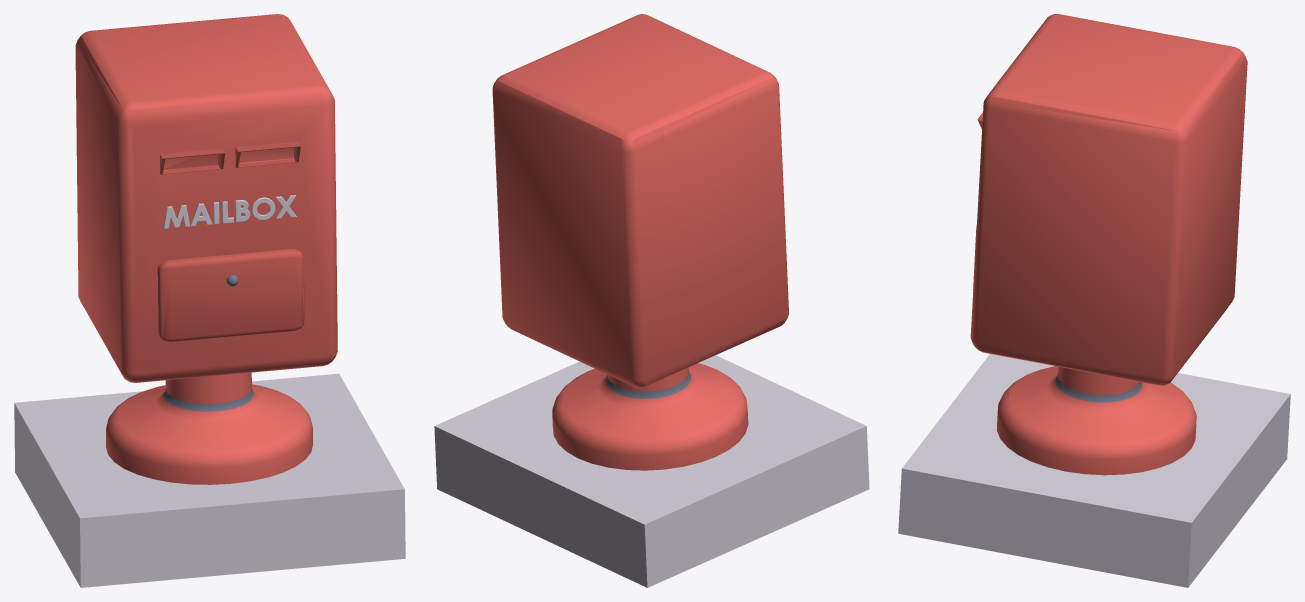
Rendered from concrete_mailbox.fbx.
3 views of the same model, side by side, from view 1: azimuth 30°, elevation 25°; view 2: azimuth 150°, elevation 25°; view 3: azimuth 270°, elevation 25° (orthographic). The views are drawn at different scales.
Parts seen in each view (by area): view 1: mail box.001, Cube.008, mail base.001; view 2: mail box.001, Cube.008, mail base.001; view 3: mail box.001, Cube.008, mail base.001.
Boxes of the visible parts, x1,y1,x2,y2 form: mail box.001: [75, 14, 337, 382]; Cube.008: [14, 373, 405, 587]; mail base.001: [106, 372, 312, 484]; mail box.001: [492, 14, 788, 387]; Cube.008: [434, 355, 869, 587]; mail base.001: [552, 363, 748, 470]; mail box.001: [970, 14, 1247, 385]; Cube.008: [898, 354, 1290, 587]; mail base.001: [997, 366, 1196, 475].
Bounding box in the file's own units: 134 × 164 × 132.
